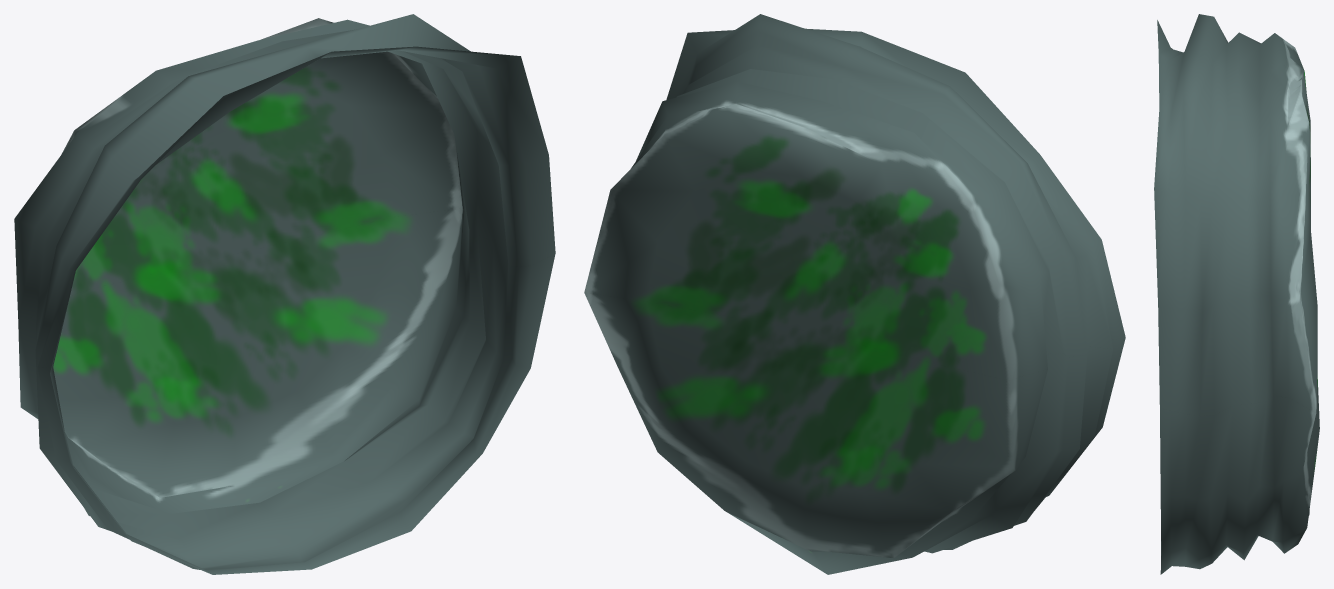
3 renders of one model, left to right at view 1: azimuth 30°, elevation 25°; view 2: azimuth 150°, elevation 25°; view 3: azimuth 270°, elevation 25°, orthographic. The views are drawn at different scales.
Visible parts, largest first — view 1: Base; view 2: Base; view 3: Base.
Part boxes in pixels (<box>): Base: <box>14,14,555,574</box>; Base: <box>584,14,1125,574</box>; Base: <box>1154,14,1319,574</box>.
Bounding box in the file's own units: 12.81 × 12.73 × 3.77.
